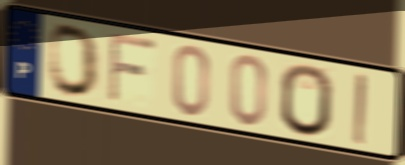0: (228, 52, 270, 129), (171, 43, 212, 119)
F: (106, 30, 159, 106)
I: (351, 71, 369, 149)
O: (278, 62, 335, 139), (47, 23, 101, 100)
